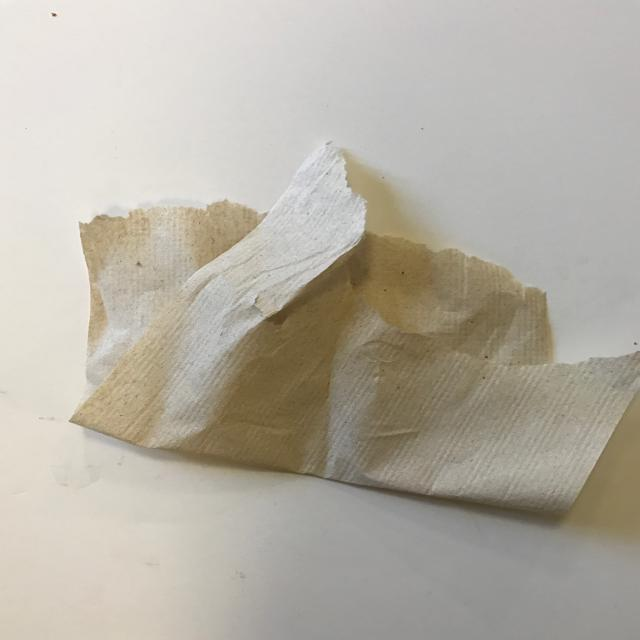trash: (69, 140, 640, 515)
